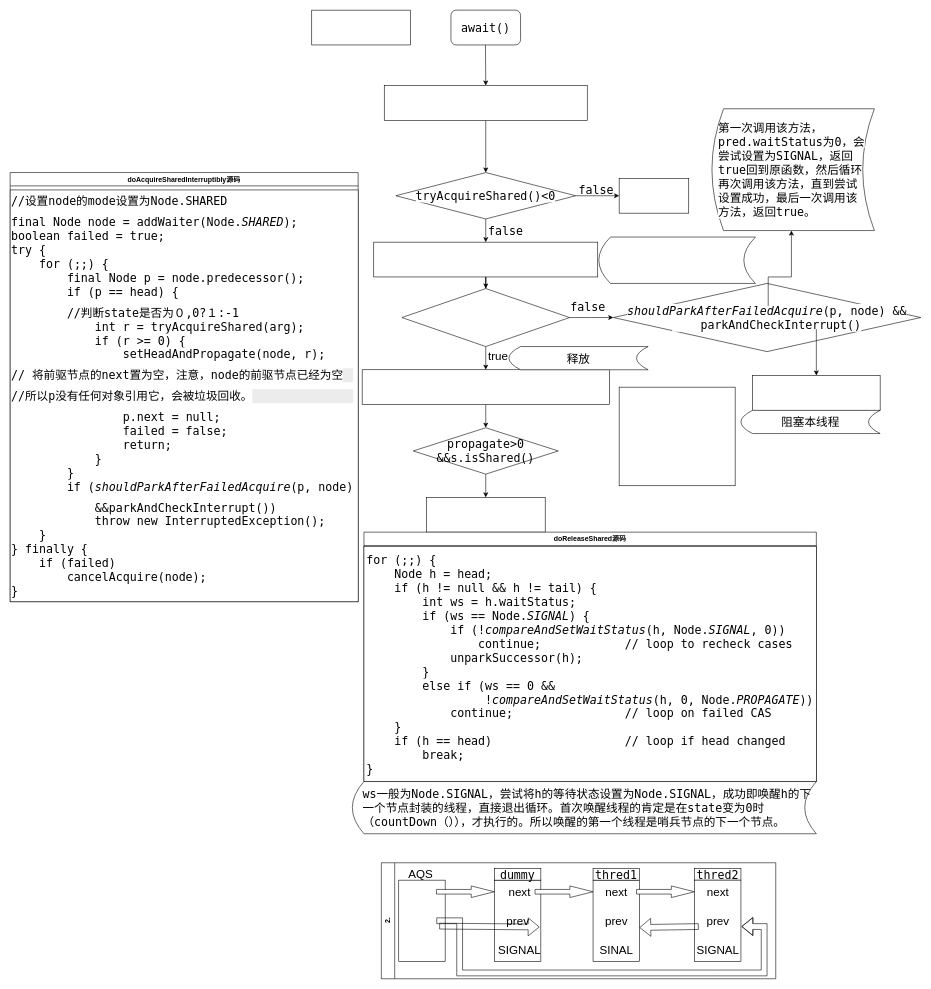
Image size: 931x989. Some labels were removed from this diagram. The shapes that lost their labels are listed below. From the top down, each one's centre as x and y in pixels, then its label:
At point 360,27: "CountDownLatch".
At point 485,102: "acquireSharedInterruptibly(1)".
At point 654,195: "await返回".
At point 485,259: "doAcquireSharedInterruptibly(1)".
At point 676,259: "将当前的线程封装成一个节点，加入双向队列。 p是加入节点的前驱节点。".
At point 485,317: "prev==head && tryAcquireShared".
At point 485,387: "setHeadAndPropagate(node,propagate)".
At point 816,392: "LockSupport. park (this)".
At point 677,436: "setHead(node); 将当前节点设置为头节点，并将前驱节点设置为空，并且置thread为null。 唤醒node的下一个节点。".
At point 485,514: "doReleaseShared()".
At point 421,920: "had tail state".
